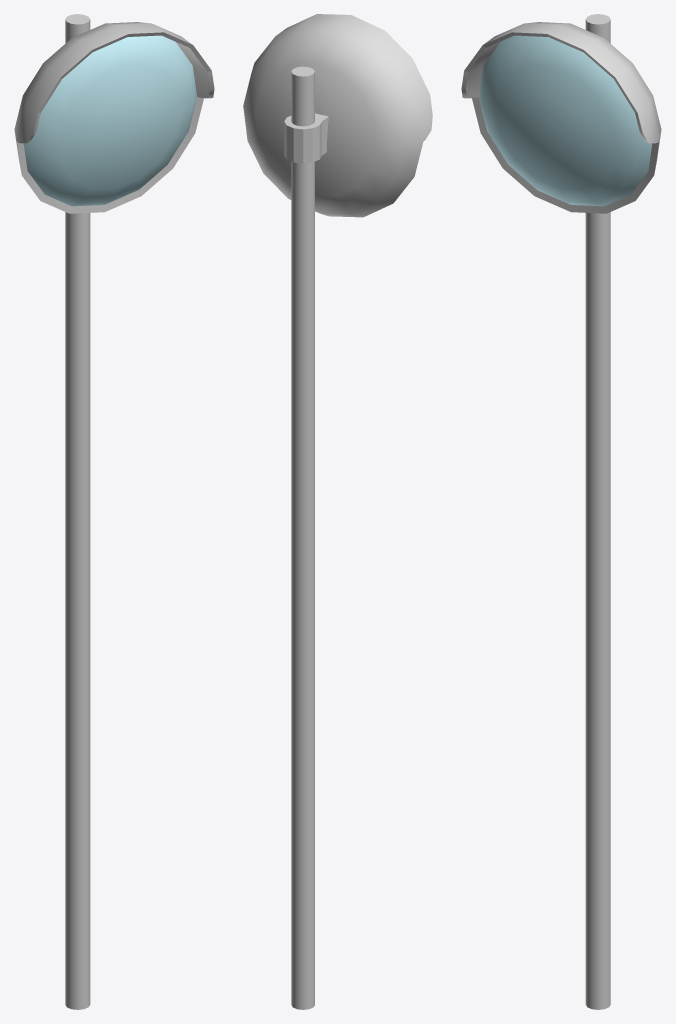
Rendered from TrafficMirror.fbx.
3 views of the same model, side by side, from view 1: azimuth 30°, elevation 25°; view 2: azimuth 150°, elevation 25°; view 3: azimuth 330°, elevation 25° (orthographic). The views are drawn at different scales.
Parts seen in each view (by area): view 1: TrafficMirror; view 2: TrafficMirror; view 3: TrafficMirror.
Boxes of the visible parts, x1,y1,x2,y2 form: TrafficMirror: [14, 14, 214, 1009]; TrafficMirror: [243, 14, 432, 1009]; TrafficMirror: [461, 14, 661, 1009].
Bounding box in the file's own units: 58.83 × 302 × 33.02.
